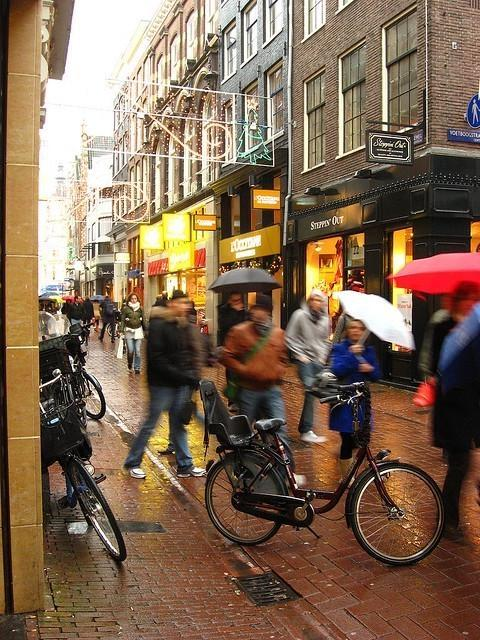bicycle: (200, 372, 446, 566), (34, 377, 124, 558), (65, 354, 106, 424)
